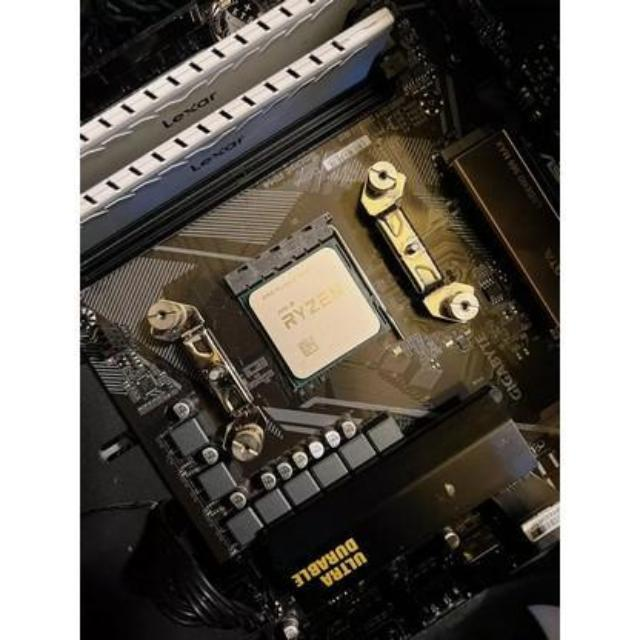CPU: (244, 248, 382, 378)
